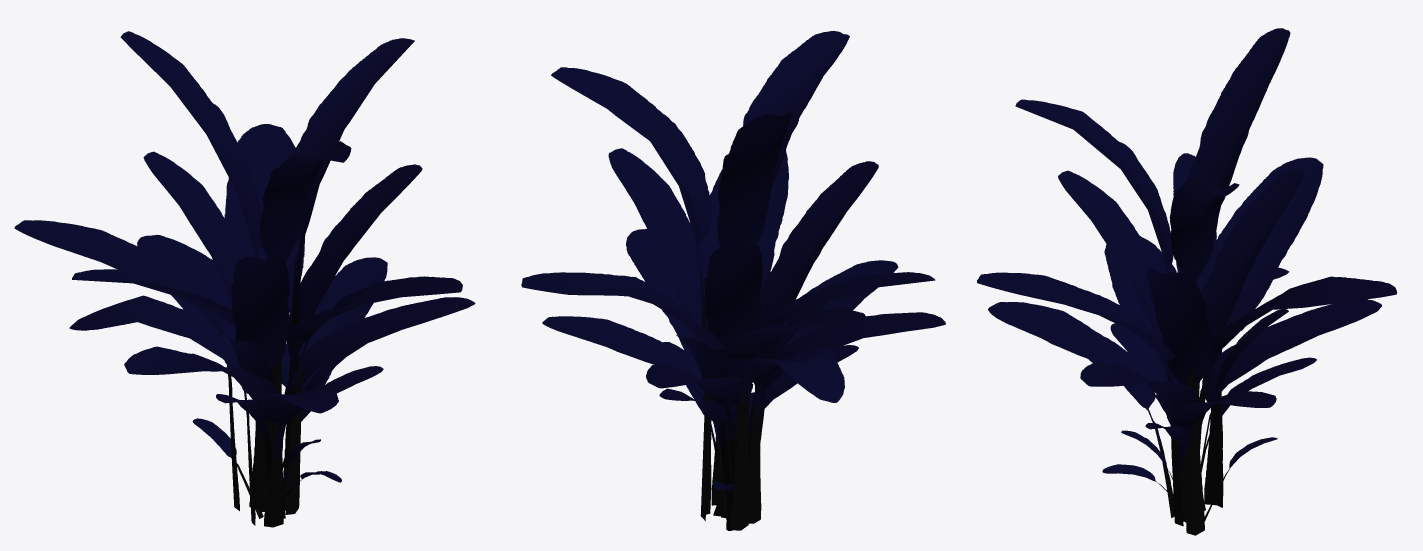
File: SM_Foliage_PalmPlantA_02.fbx
The picture shows the model from 3 angles, left to right: view 1: azimuth 30°, elevation 25°; view 2: azimuth 150°, elevation 25°; view 3: azimuth 270°, elevation 25°; orthographic projection. The views are drawn at different scales.
Parts seen in each view (by area): view 1: SM_Foliage_PalmPlantA_02; view 2: SM_Foliage_PalmPlantA_02; view 3: SM_Foliage_PalmPlantA_02.
Boxes of the visible parts, x1,y1,x2,y2 form: SM_Foliage_PalmPlantA_02: [14, 31, 475, 527]; SM_Foliage_PalmPlantA_02: [521, 31, 945, 530]; SM_Foliage_PalmPlantA_02: [977, 28, 1397, 535].
Bounding box in the file's own units: 388 × 418 × 492.
